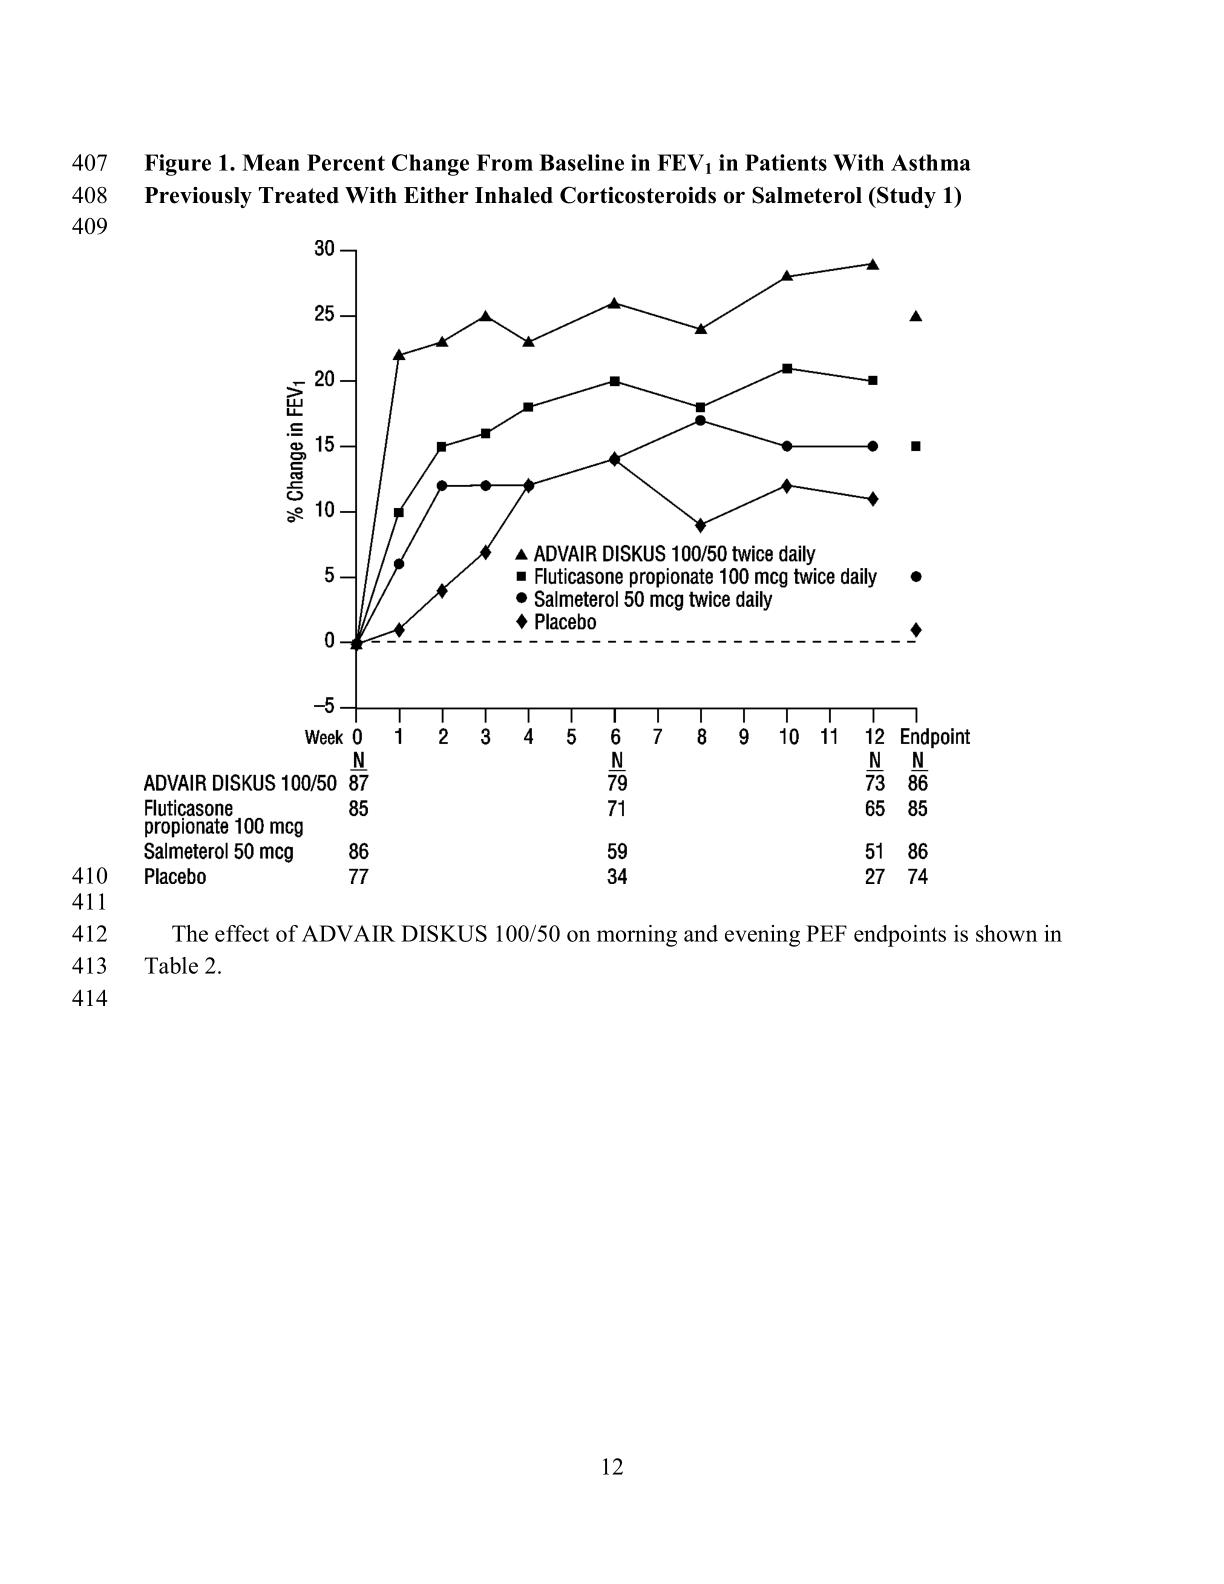nolines: (141, 752, 933, 888)
